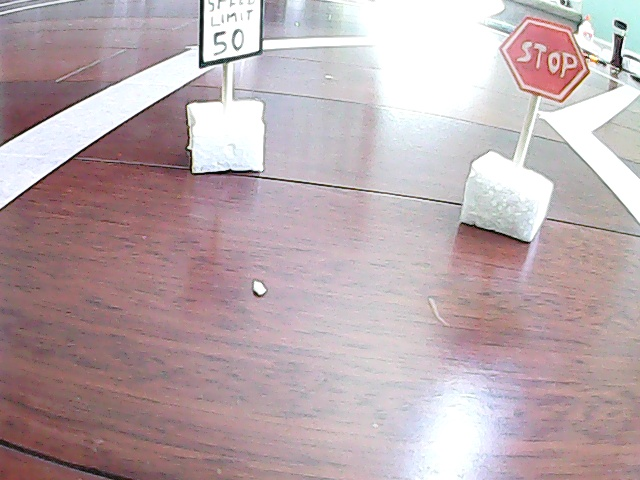speed_50: (173, 1, 277, 178)
stop: (475, 15, 589, 248)
